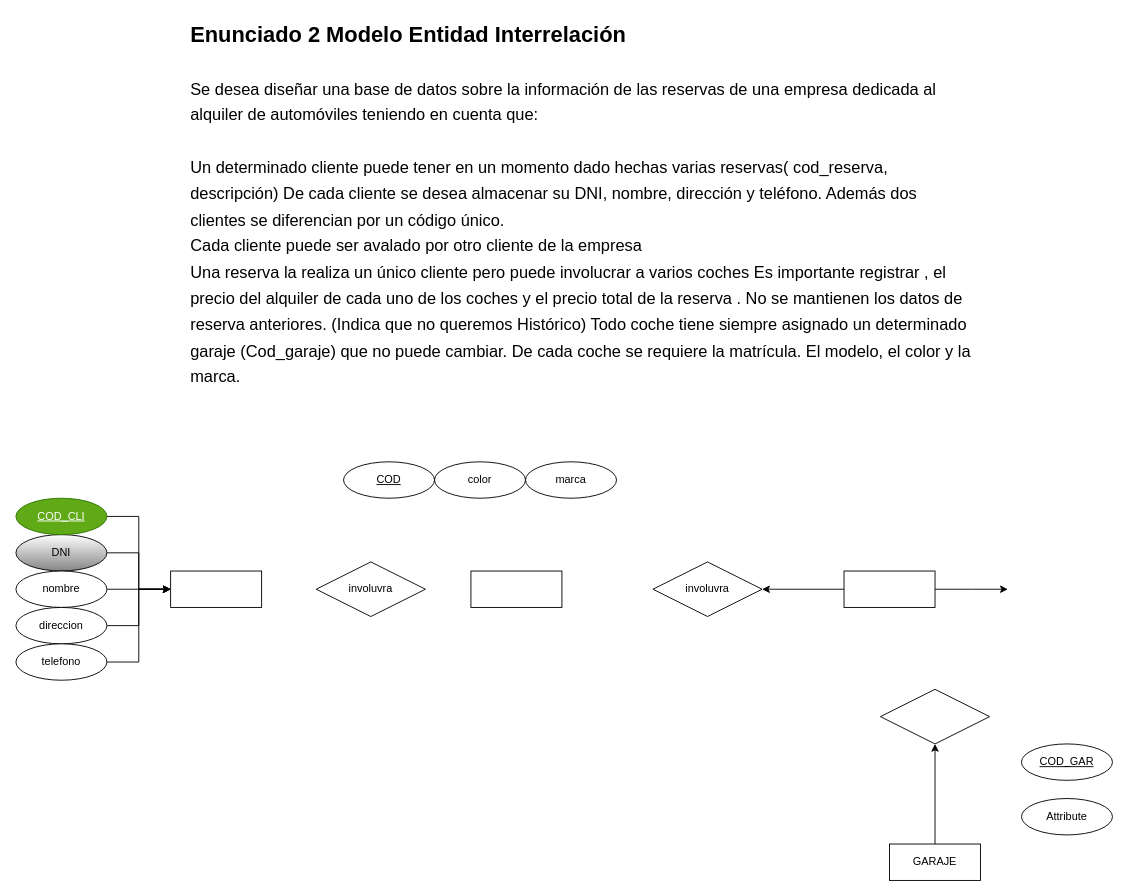
Some shapes in this 1128 by 896 pixel diagram are drawn without their labels. Each missing label, with the centre of its shape:
"CLIENTE" belongs at (216,588).
"COCHE" belongs at (889,588).
"Relationship" belongs at (935,716).
"RESERVA" belongs at (516,588).
